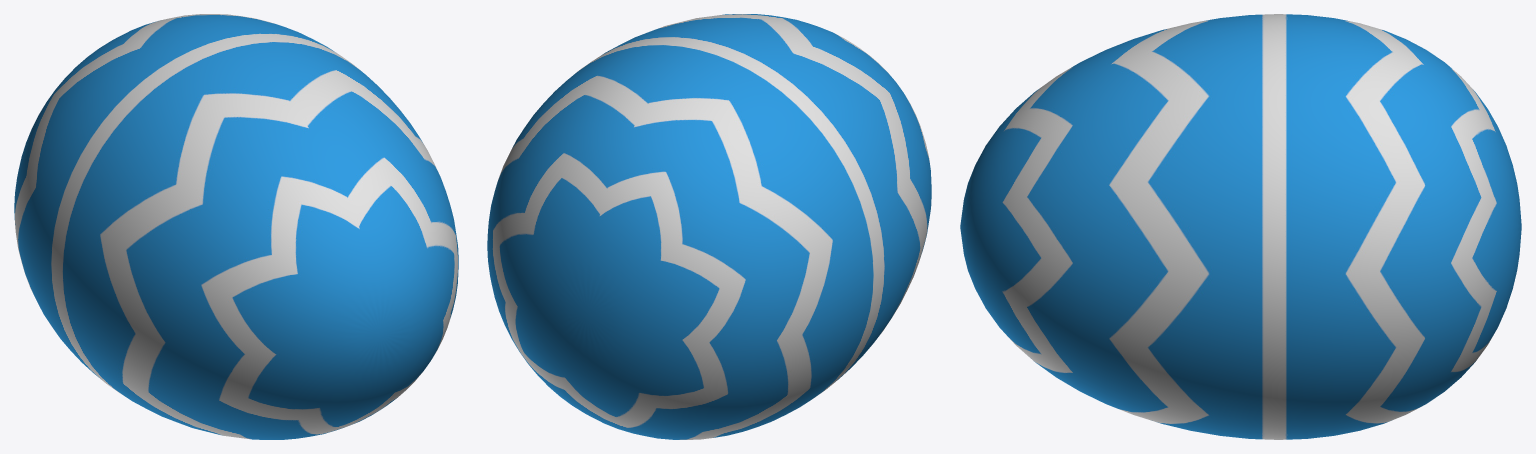
File: Egg_001.fbx
The picture shows the model from 3 angles, left to right: view 1: azimuth 30°, elevation 25°; view 2: azimuth 150°, elevation 25°; view 3: azimuth 270°, elevation 25°; orthographic projection. The views are drawn at different scales.
Visible parts, largest first — view 1: Default; view 2: Default; view 3: Default.
Part boxes in pixels (x1,y1,x2,y2): Default: [14, 14, 458, 439]; Default: [487, 14, 931, 439]; Default: [960, 14, 1521, 439].
Bounding box in the file's own units: 46.12 × 46.12 × 60.74.
Materials: 1 (1 with a texture image).
